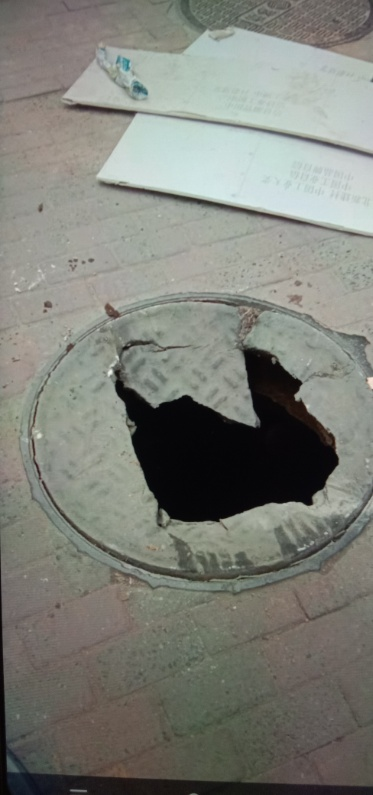broke: (18, 290, 373, 594)
